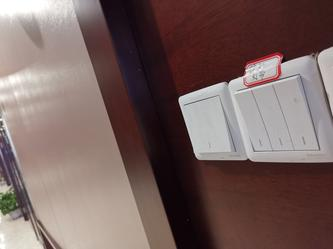switch: (274, 69, 322, 150), (180, 93, 235, 157), (252, 83, 294, 151), (231, 86, 272, 155)
